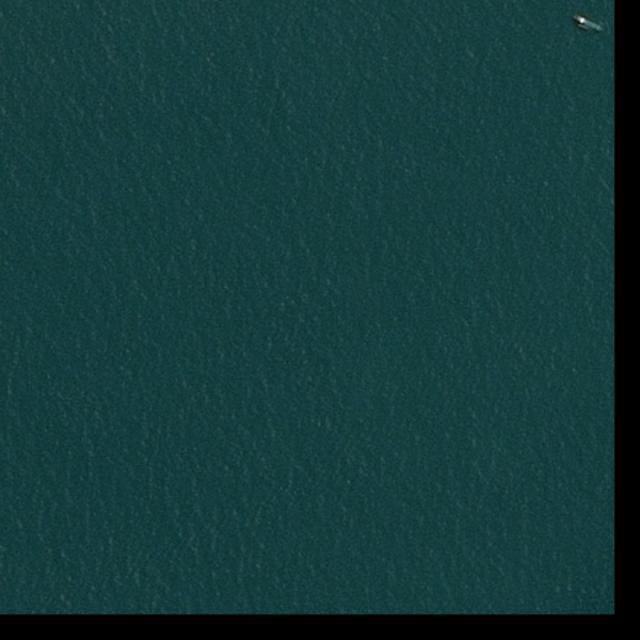ship: (573, 13, 604, 34), (577, 22, 590, 31)
